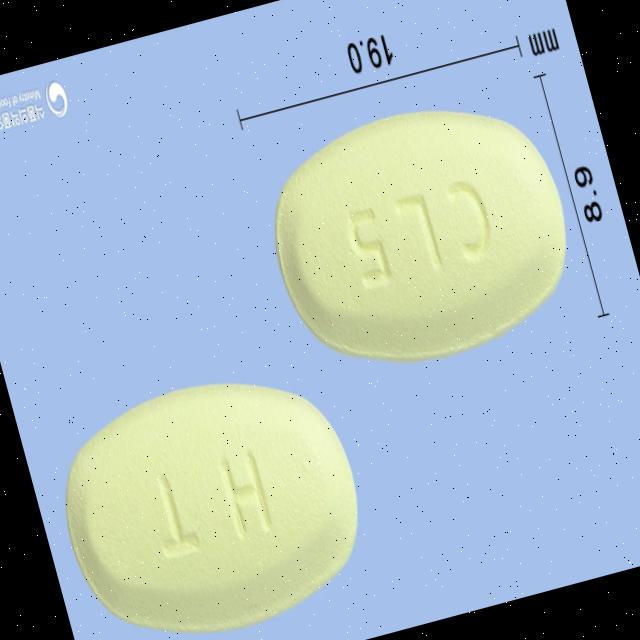Clathrocin: (246, 78, 593, 395), (37, 349, 387, 640)
